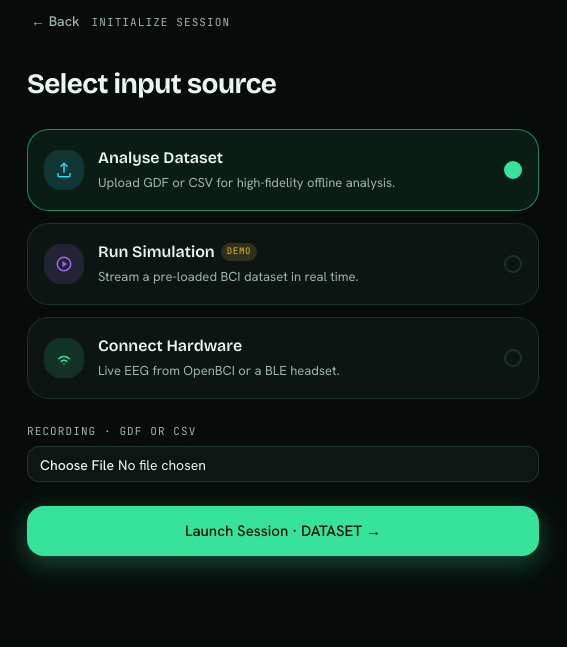
Scenario: dataset upload › refuses to start without a recording
The width and height of the screenshot is (567, 647).
Click the button "Launch Session · DATASET →": (283, 531) [27,506,539,556]
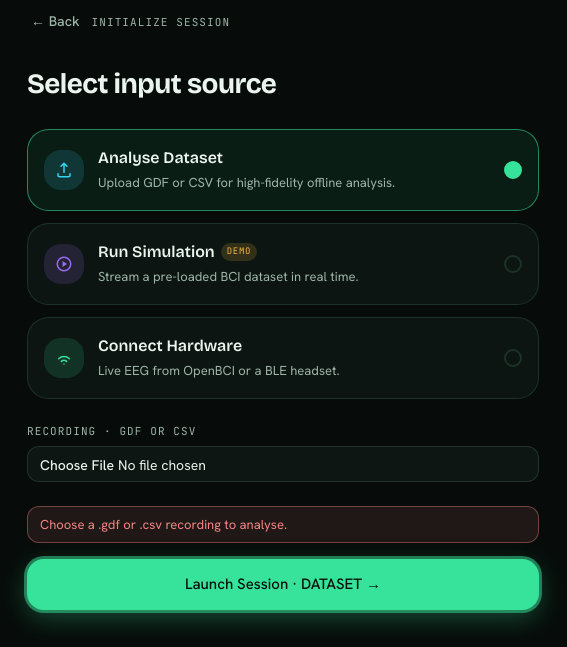
Check: the message shows "Choose a .gdf or .csv", box [40,516,287,532]
